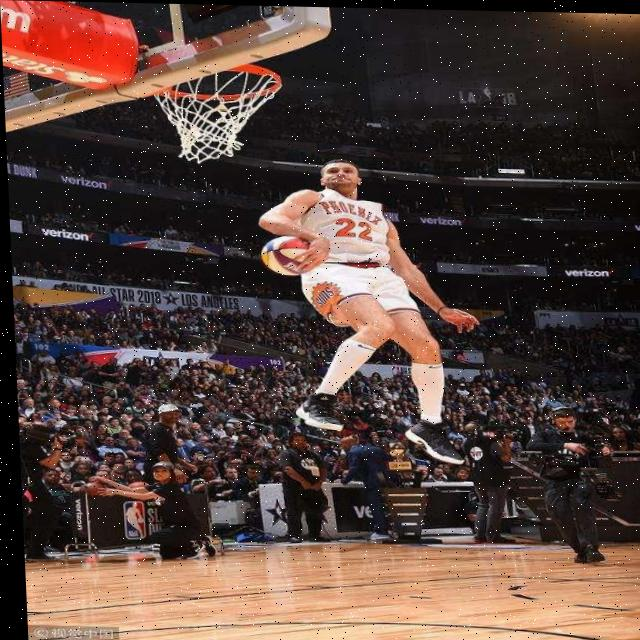basketball: (260, 233, 318, 277)
hoop: (146, 60, 286, 164)
